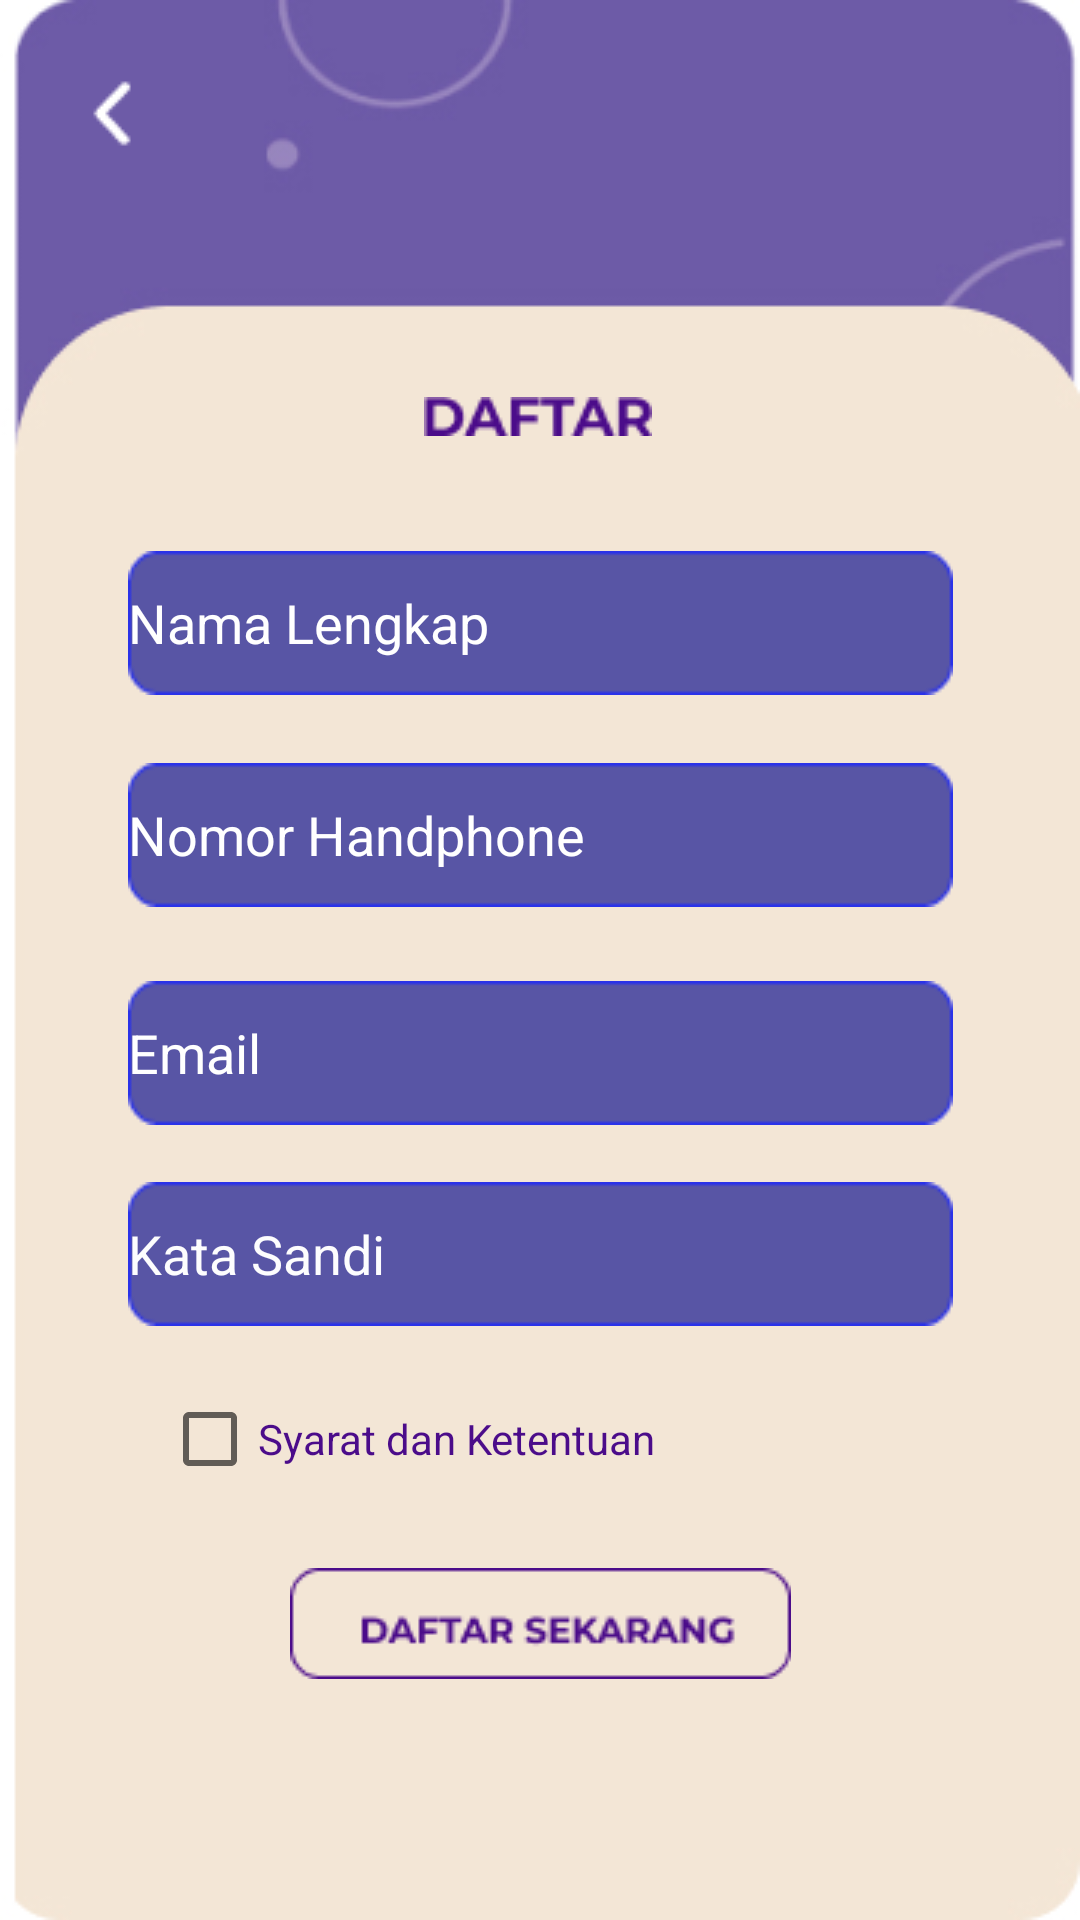

Locate icon controls on the screen. Image size 1080 x 1920, boxes as (left=x1, top=y1, right=x2, bottom=y2).
back: (left=93, top=81, right=131, bottom=146)
